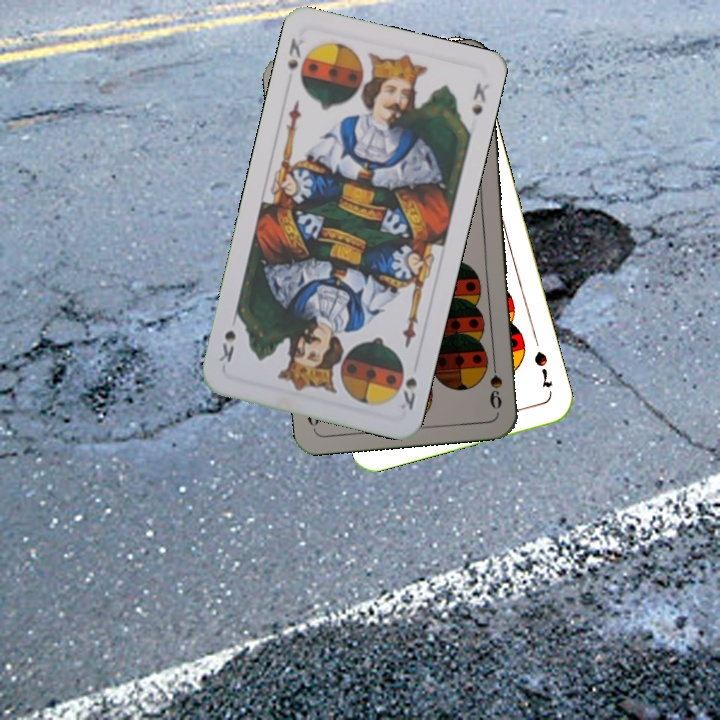S7: (530, 347, 555, 391)
S9: (485, 353, 505, 411)
SK: (392, 359, 420, 413), (283, 34, 307, 75)
